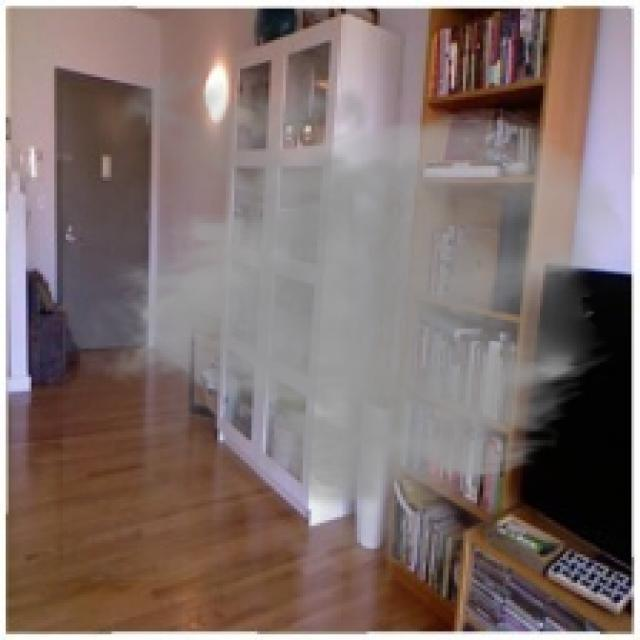Smoke: (62, 51, 628, 580)
